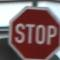Stop sign: (0, 0, 59, 59)
